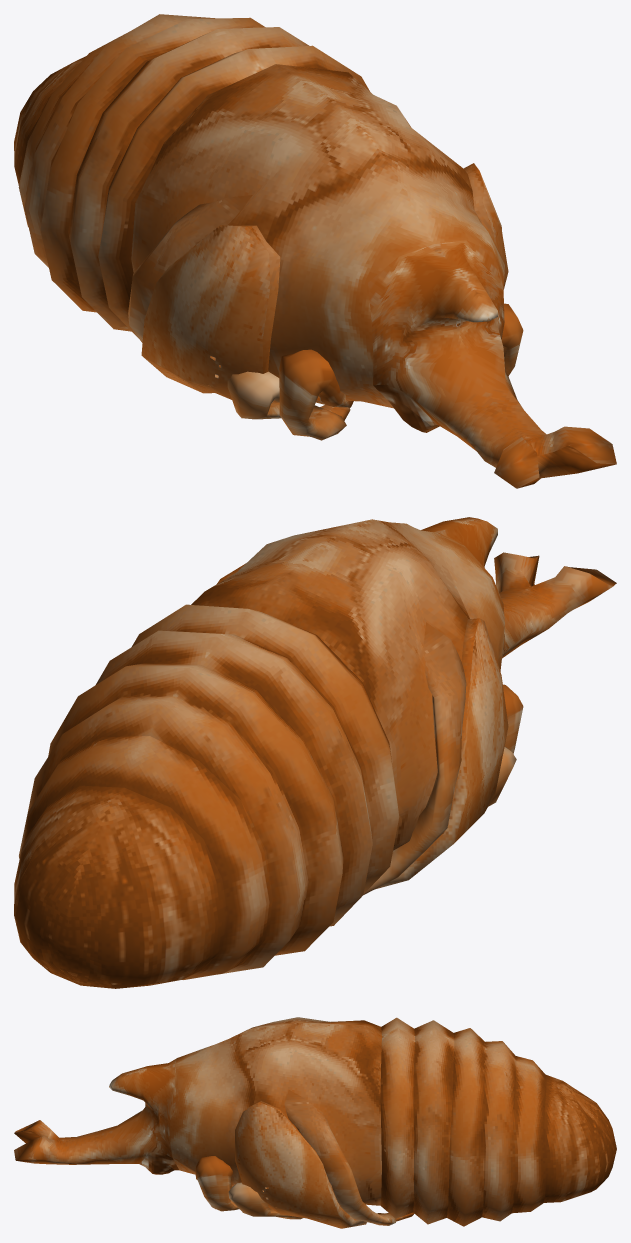
Rendered from Pupa.fbx.
3 views of the same model, one above another, from view 1: azimuth 30°, elevation 25°; view 2: azimuth 150°, elevation 25°; view 3: azimuth 270°, elevation 25° (orthographic). The views are drawn at different scales.
Parts seen in each view (by area): view 1: Pupa; view 2: Pupa; view 3: Pupa.
Part boxes in pixels (left/top/right/bottom): Pupa: left=14, top=14, right=616, bottom=488; Pupa: left=14, top=517, right=616, bottom=988; Pupa: left=14, top=1017, right=616, bottom=1228.
Size of the model in its own units: 1.78 by 1.62 by 4.78.
1 material, 1 textured.
